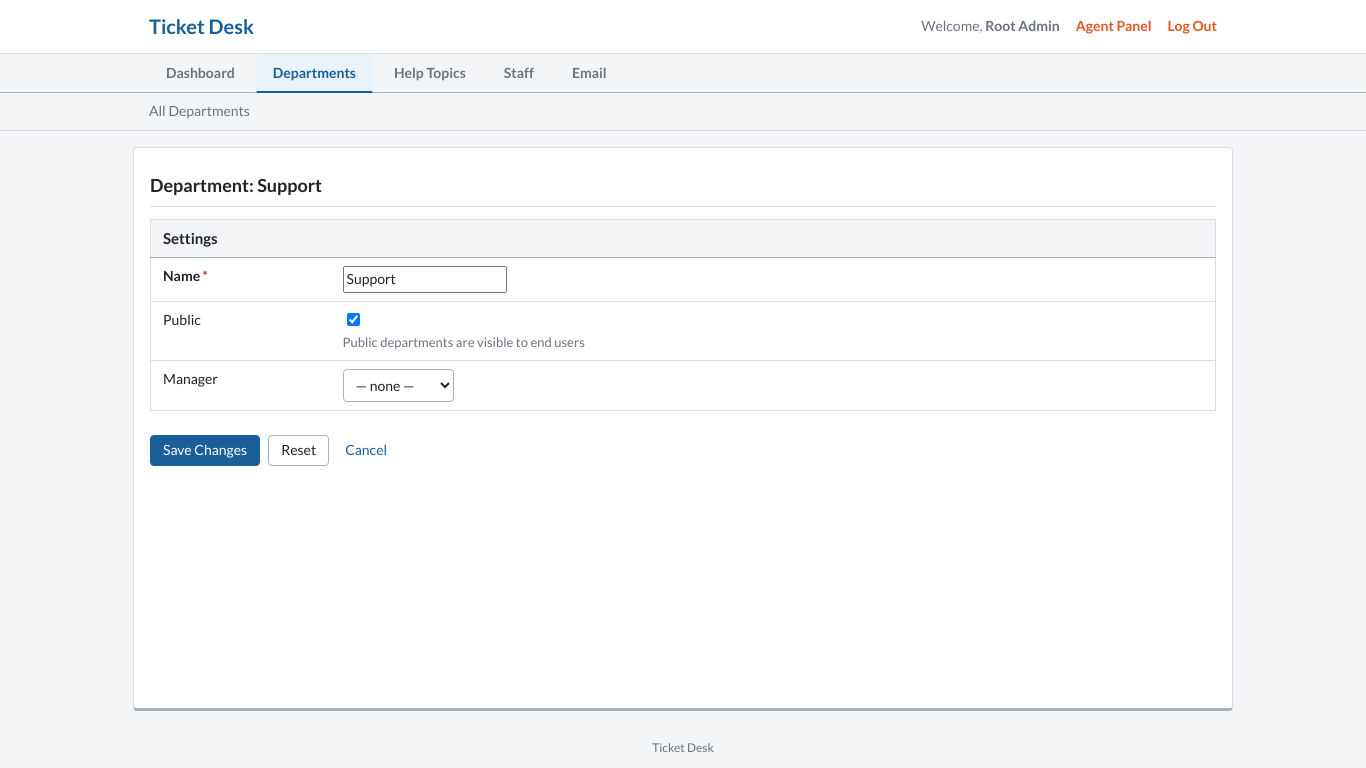
Scenario: cancel returns to the list
Click the link "Cancel" at x=366, y=450, box [345,440,387,460]
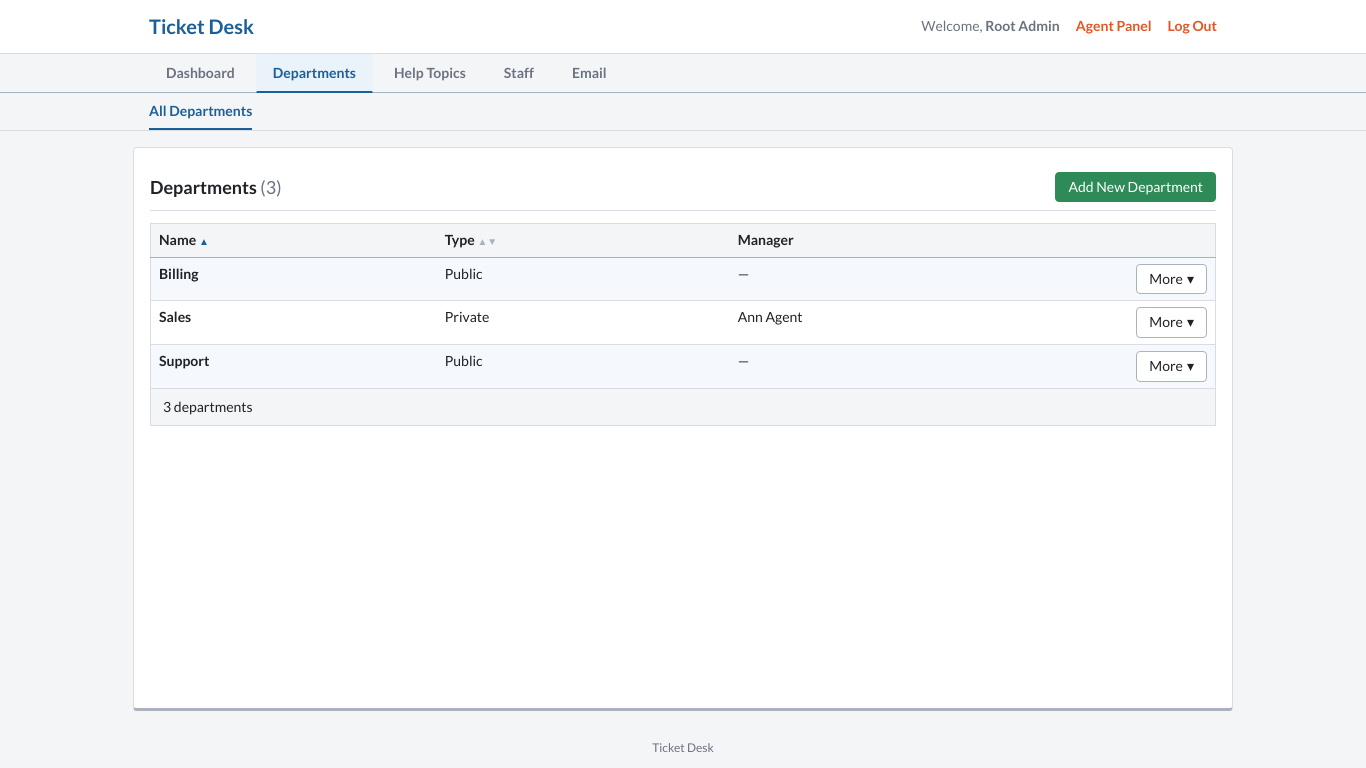
Expected: the heading "Departments (3)" is shown, [150,174,282,200]
